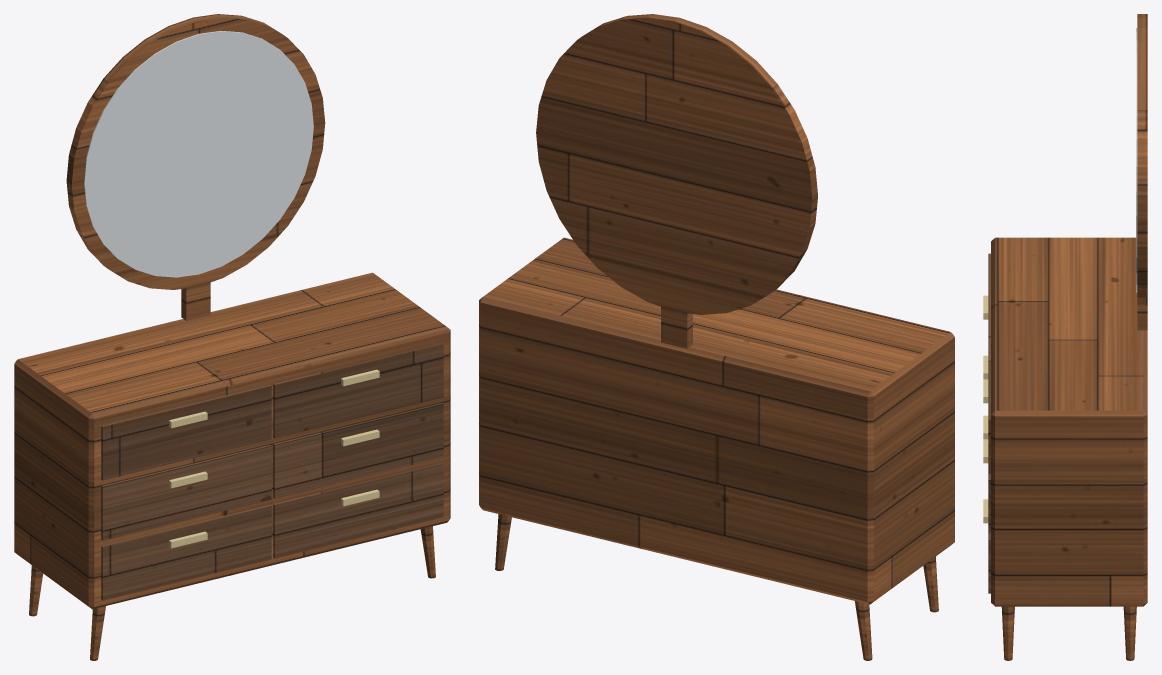
File: dresser.glb
The picture shows the model from 3 angles, left to right: view 1: azimuth 30°, elevation 25°; view 2: azimuth 150°, elevation 25°; view 3: azimuth 270°, elevation 25°; orthographic projection. The views are drawn at different scales.
Visible parts, largest first — view 1: dresser_teak, dresser_dkwood, dresser_mirror, dresser_brass; view 2: dresser_teak; view 3: dresser_teak, dresser_dkwood, dresser_brass, dresser_mirror.
Part boxes in pixels (box(x1,y1,x2,y2)): dresser_teak: box(14, 14, 450, 660); dresser_dkwood: box(101, 343, 443, 600); dresser_mirror: box(84, 31, 313, 277); dresser_brass: box(169, 369, 379, 548); dresser_teak: box(479, 14, 954, 660); dresser_teak: box(991, 14, 1147, 660); dresser_dkwood: box(988, 253, 990, 593); dresser_brass: box(983, 295, 988, 523); dresser_mirror: box(1136, 28, 1137, 292).
Bounding box in the file's own units: 1.2 × 1.74 × 0.472.
Materials: 4 (2 with a texture image).
